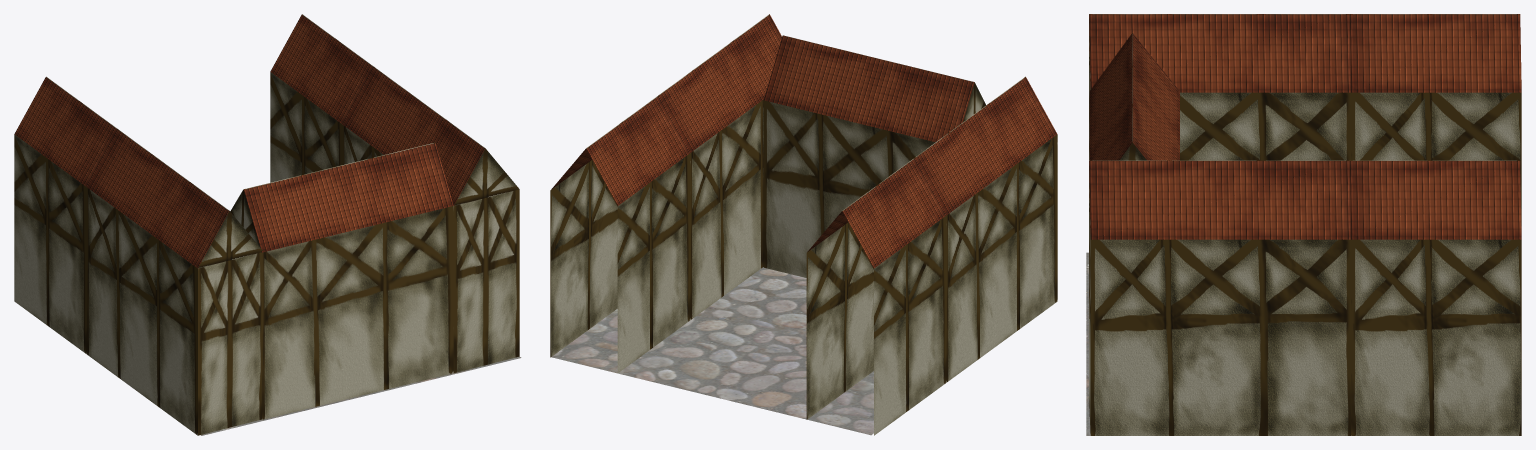
Rendered from 3-5_Dead_End_v1.fbx.
The picture shows the model from 3 angles, left to right: view 1: azimuth 30°, elevation 25°; view 2: azimuth 150°, elevation 25°; view 3: azimuth 270°, elevation 25°; orthographic projection. The views are drawn at different scales.
Visible parts, largest first — view 1: Dead_End_comb; view 2: Dead_End_comb; view 3: Dead_End_comb.
Part boxes in pixels (bbox=[...]): Dead_End_comb: bbox=[14, 14, 521, 435]; Dead_End_comb: bbox=[550, 14, 1057, 435]; Dead_End_comb: bbox=[1086, 14, 1521, 435].
Size of the model in its own units: 101 by 64.88 by 100.
2 materials, 2 textured.
